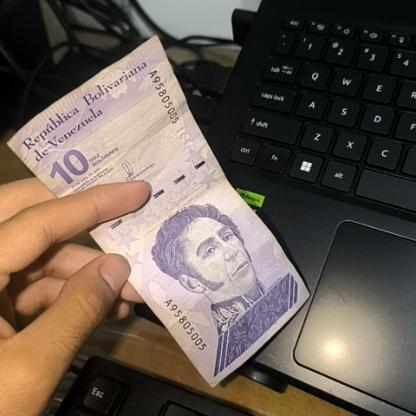ten-front-vef: (7, 38, 318, 390)
